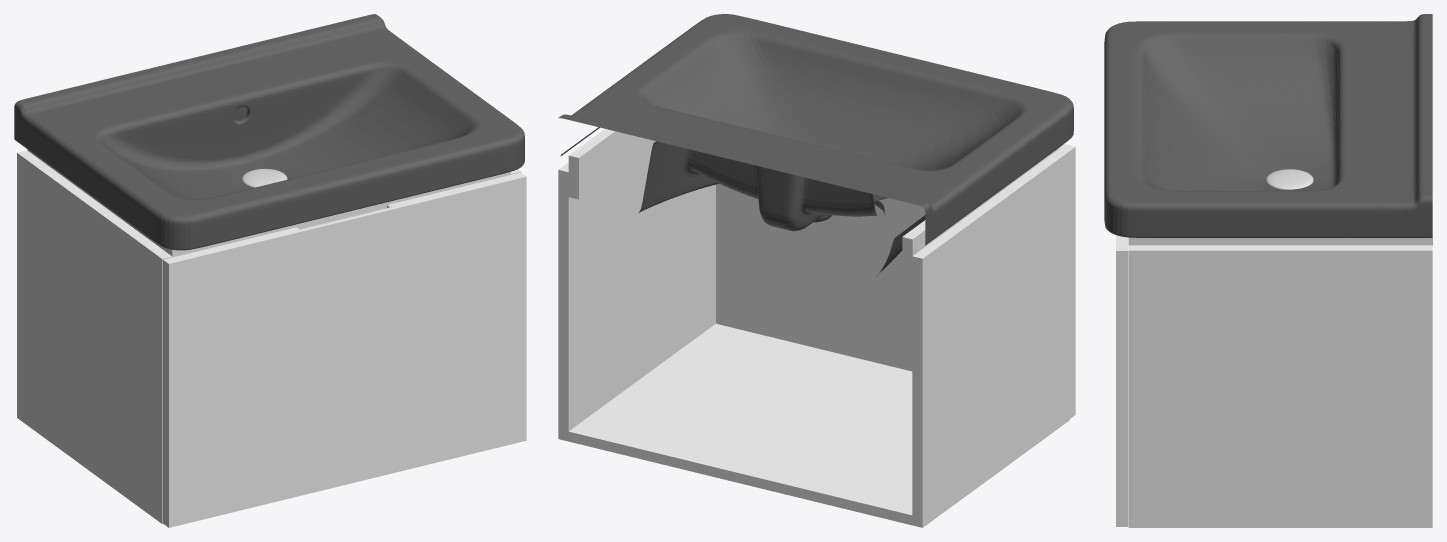
The model's file is AEC_48027.glb.
The picture shows the model from 3 angles, left to right: view 1: azimuth 30°, elevation 25°; view 2: azimuth 150°, elevation 25°; view 3: azimuth 270°, elevation 25°; orthographic projection. The views are drawn at different scales.
Parts seen in each view (by area): view 1: 0; view 2: 0; view 3: 0.
Boxes of the visible parts, left/top/right/bottom form: 0: left=14, top=14, right=526, bottom=527; 0: left=558, top=14, right=1075, bottom=527; 0: left=1104, top=14, right=1432, bottom=527.
Bounding box in the file's own units: 0.65 × 0.54 × 0.485.
Materials: 1 (1 with a texture image).
